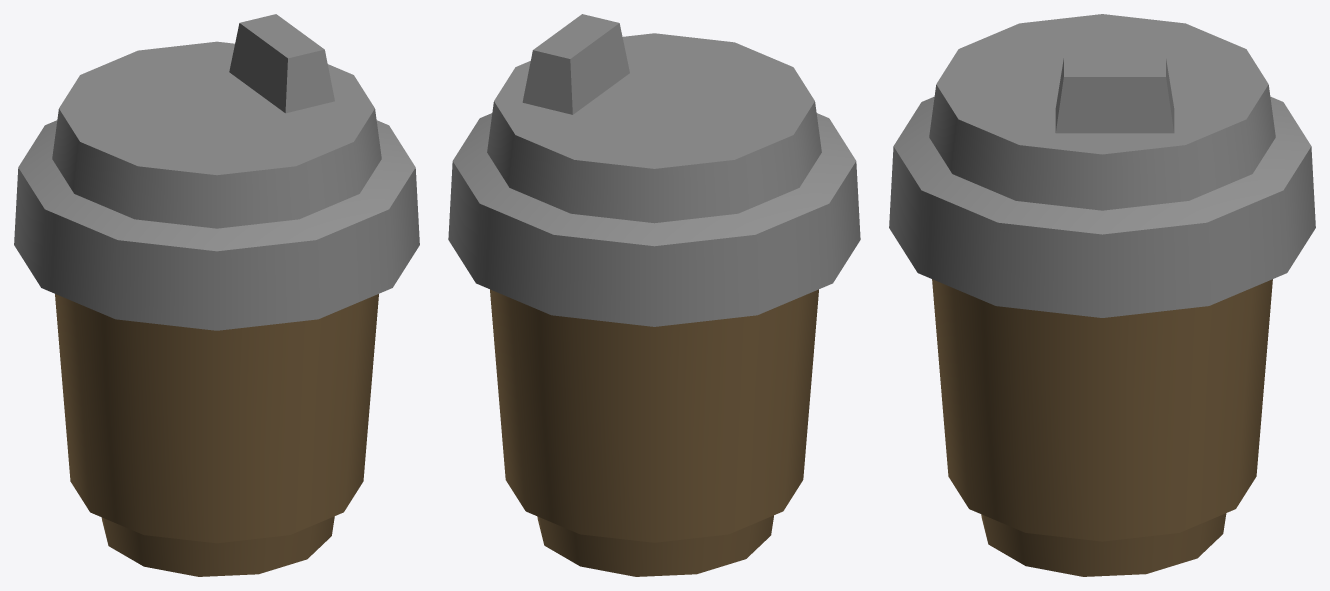
File: starbucks.fbx
3 renders of one model, left to right at view 1: azimuth 30°, elevation 25°; view 2: azimuth 150°, elevation 25°; view 3: azimuth 270°, elevation 25°, orthographic. The views are drawn at different scales.
Parts seen in each view (by area): view 1: starbucks; view 2: starbucks; view 3: starbucks.
Boxes of the visible parts, x1=… form: starbucks: x1=14, y1=14, x2=419, y2=576; starbucks: x1=448, y1=14, x2=860, y2=576; starbucks: x1=889, y1=14, x2=1315, y2=576.
Bounding box in the file's own units: 37.96 × 48.56 × 37.96.
